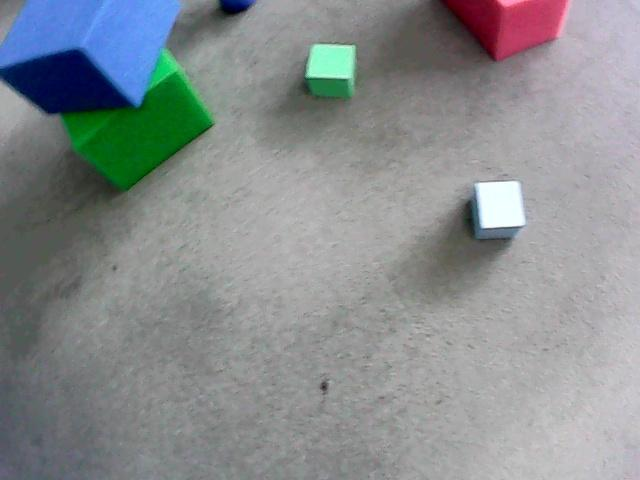blue_block: (0, 0, 180, 112), (472, 181, 525, 239), (219, 0, 255, 13)
red_block: (442, 0, 570, 60)
